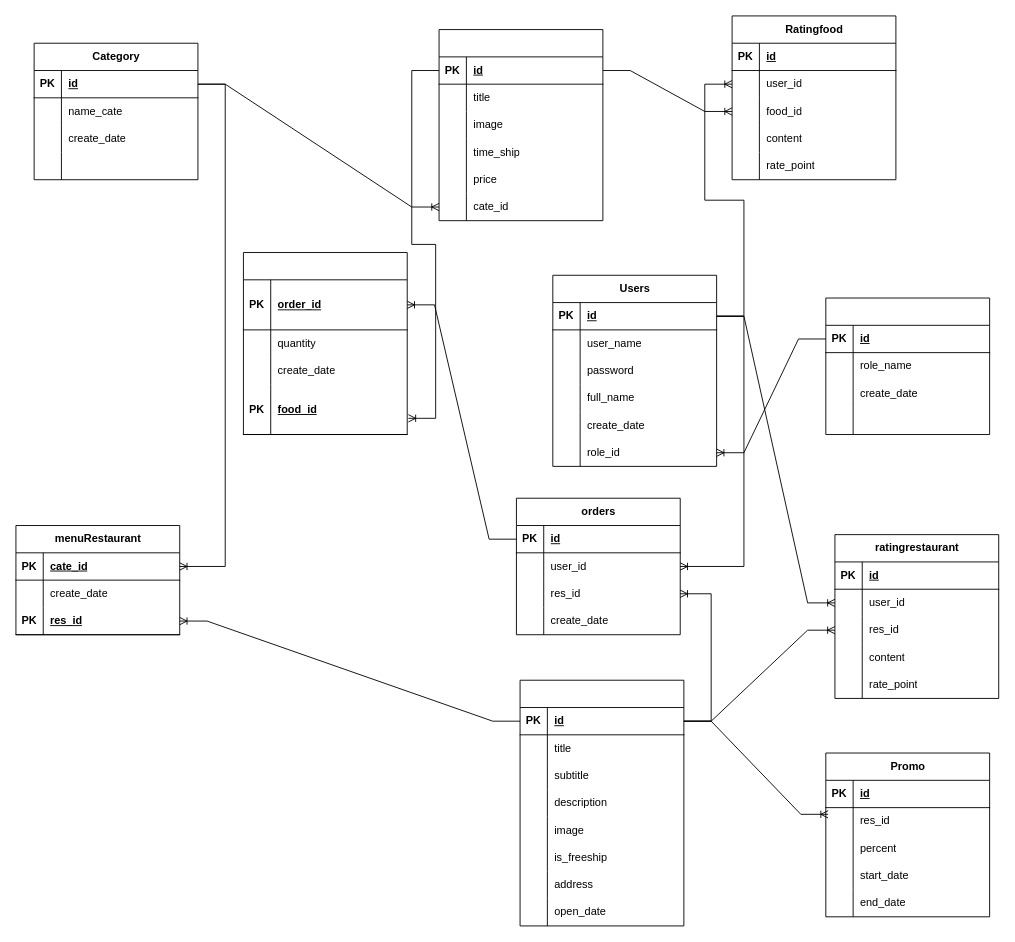
Image size: 1015x942. Some labels were removed from this diagram. Here are the shapes that lost their labels. From the top down, the box of each, then its label:
(438, 29, 603, 221): Food
(243, 252, 407, 435): OrderItem
(825, 297, 990, 435): Roles
(519, 679, 684, 926): restaurant
